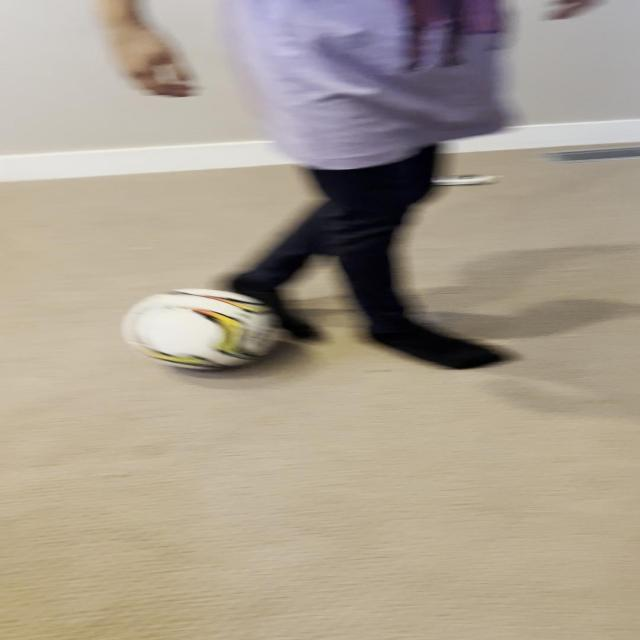Soccer Ball: (124, 287, 284, 369)
